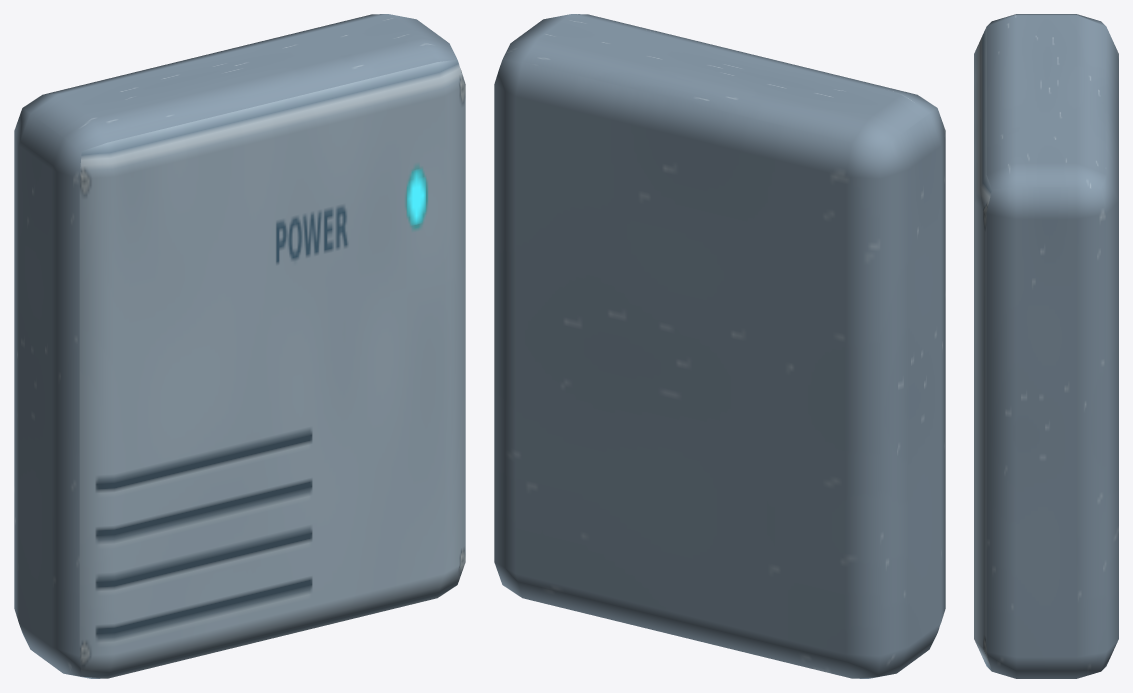
The model's file is SM_JunctionBox.glb.
3 views of the same model, side by side, from view 1: azimuth 30°, elevation 25°; view 2: azimuth 150°, elevation 25°; view 3: azimuth 270°, elevation 25° (orthographic). The views are drawn at different scales.
Visible parts, largest first — view 1: SM_JunctionBox; view 2: SM_JunctionBox; view 3: SM_JunctionBox.
Part boxes in pixels (x1,y1,x2,y2): SM_JunctionBox: (14, 14, 465, 678); SM_JunctionBox: (494, 14, 945, 678); SM_JunctionBox: (974, 14, 1118, 678).
Size of the model in its own units: 0.39 by 0.51 by 0.13.
1 material, 1 textured.
